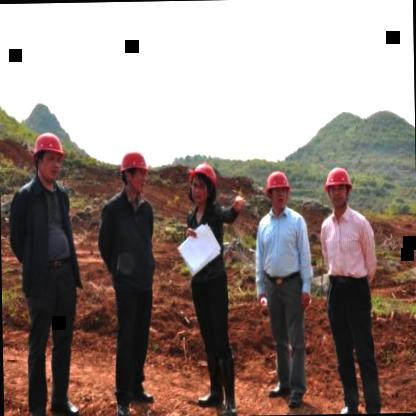helmet: (29, 127, 68, 184), (185, 156, 219, 209), (118, 144, 151, 198), (321, 162, 353, 212), (262, 166, 292, 212)
